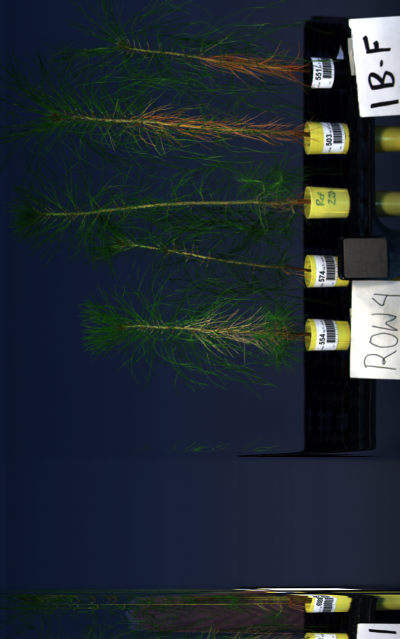tube: (302, 183, 351, 221), (307, 53, 352, 92), (307, 315, 352, 354), (305, 252, 350, 291), (303, 118, 348, 157)
